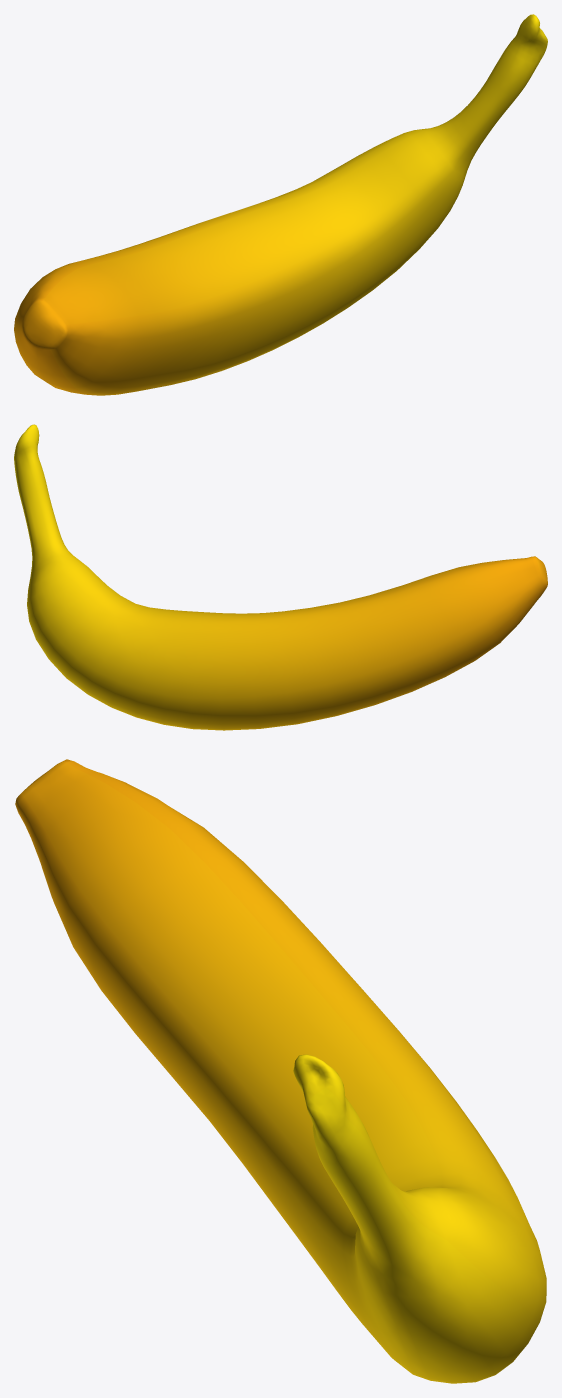
File: banana .fbx
3 views of the same model, one above another, from view 1: azimuth 30°, elevation 25°; view 2: azimuth 150°, elevation 25°; view 3: azimuth 270°, elevation 25° (orthographic). The views are drawn at different scales.
Visible parts, largest first — view 1: banana_UVs; view 2: banana_UVs; view 3: banana_UVs.
Part boxes in pixels (x1,y1,x2,y2): banana_UVs: (14, 14, 547, 395); banana_UVs: (14, 424, 547, 730); banana_UVs: (15, 759, 546, 1383).
Bounding box in the file's own units: 70.18 × 33.25 × 34.59.
Materials: 1 (1 with a texture image).
